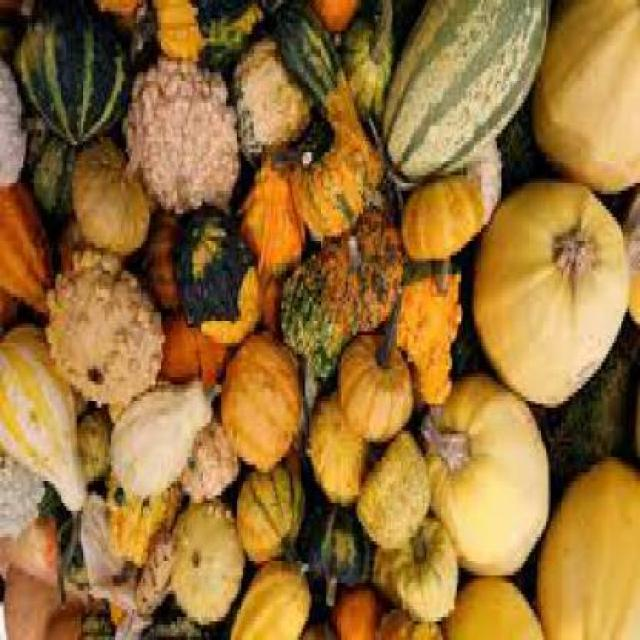BIODEGRADABLE: (470, 183, 627, 415), (382, 4, 550, 187), (423, 378, 546, 579), (531, 4, 638, 202), (124, 57, 239, 225), (42, 259, 162, 419), (536, 464, 638, 638), (8, 4, 124, 148), (0, 328, 83, 522), (288, 72, 380, 245), (109, 381, 220, 502), (232, 159, 303, 332), (232, 163, 303, 335), (274, 237, 354, 385), (232, 34, 310, 175), (220, 339, 300, 476), (316, 207, 399, 336), (178, 221, 258, 354), (68, 138, 148, 259), (391, 267, 458, 411), (368, 522, 454, 629), (354, 438, 428, 552), (169, 514, 243, 628), (336, 336, 410, 446), (302, 392, 367, 514), (273, 4, 339, 122), (155, 5, 263, 72), (398, 179, 478, 267), (303, 507, 371, 610), (0, 186, 52, 320), (341, 4, 394, 125), (234, 476, 300, 572), (0, 522, 83, 598), (105, 484, 177, 571), (75, 502, 133, 610), (229, 563, 308, 639), (23, 107, 72, 228), (442, 583, 544, 639), (2, 572, 86, 639), (156, 321, 227, 388), (181, 423, 237, 506), (40, 495, 83, 602), (139, 217, 179, 325), (462, 145, 500, 237), (59, 220, 119, 278), (0, 461, 43, 541), (0, 60, 25, 191), (135, 525, 167, 618), (322, 591, 378, 638), (77, 415, 109, 488), (623, 198, 639, 339), (307, 4, 359, 38), (375, 610, 437, 638), (143, 612, 206, 638), (94, 3, 143, 34), (115, 604, 146, 638), (296, 617, 336, 638)
